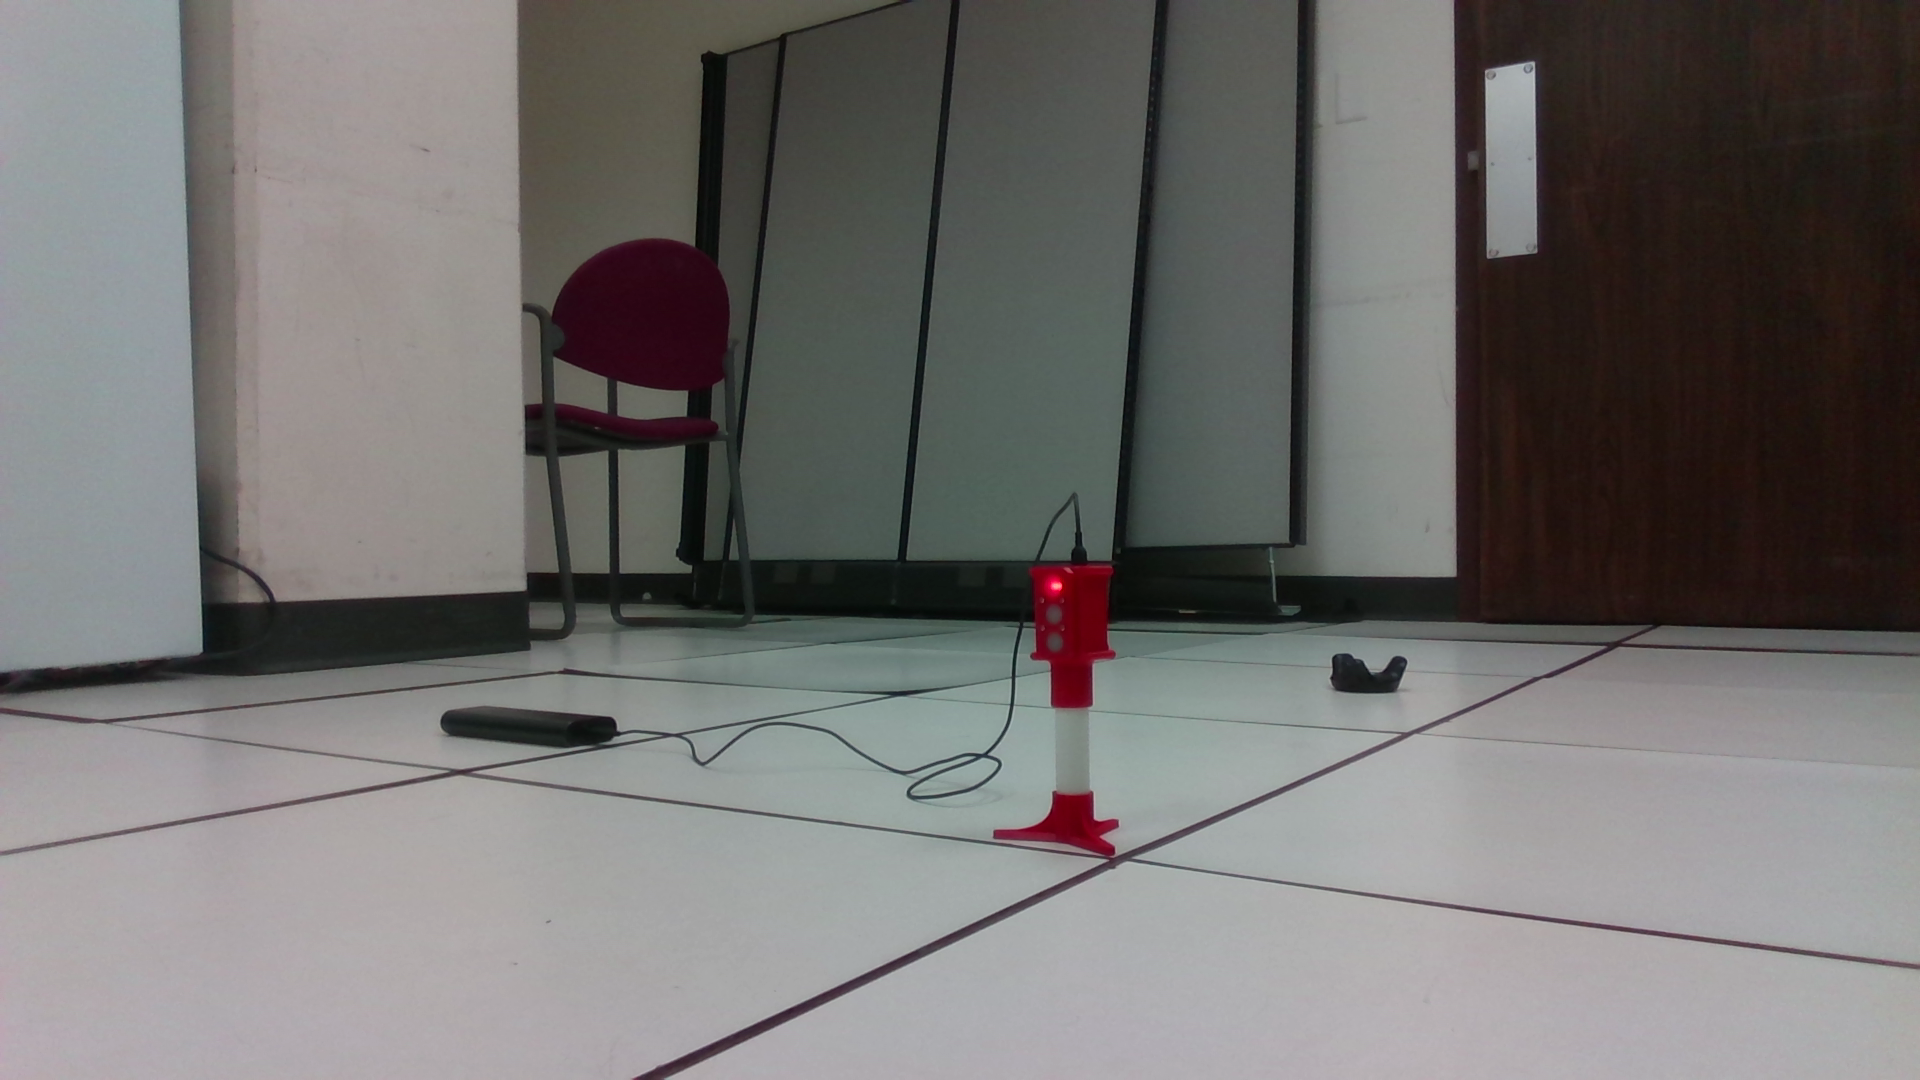stoplight: (1035, 564, 1117, 708)
